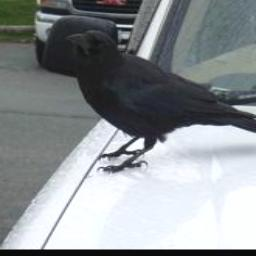Crow: (68, 28, 256, 175)
